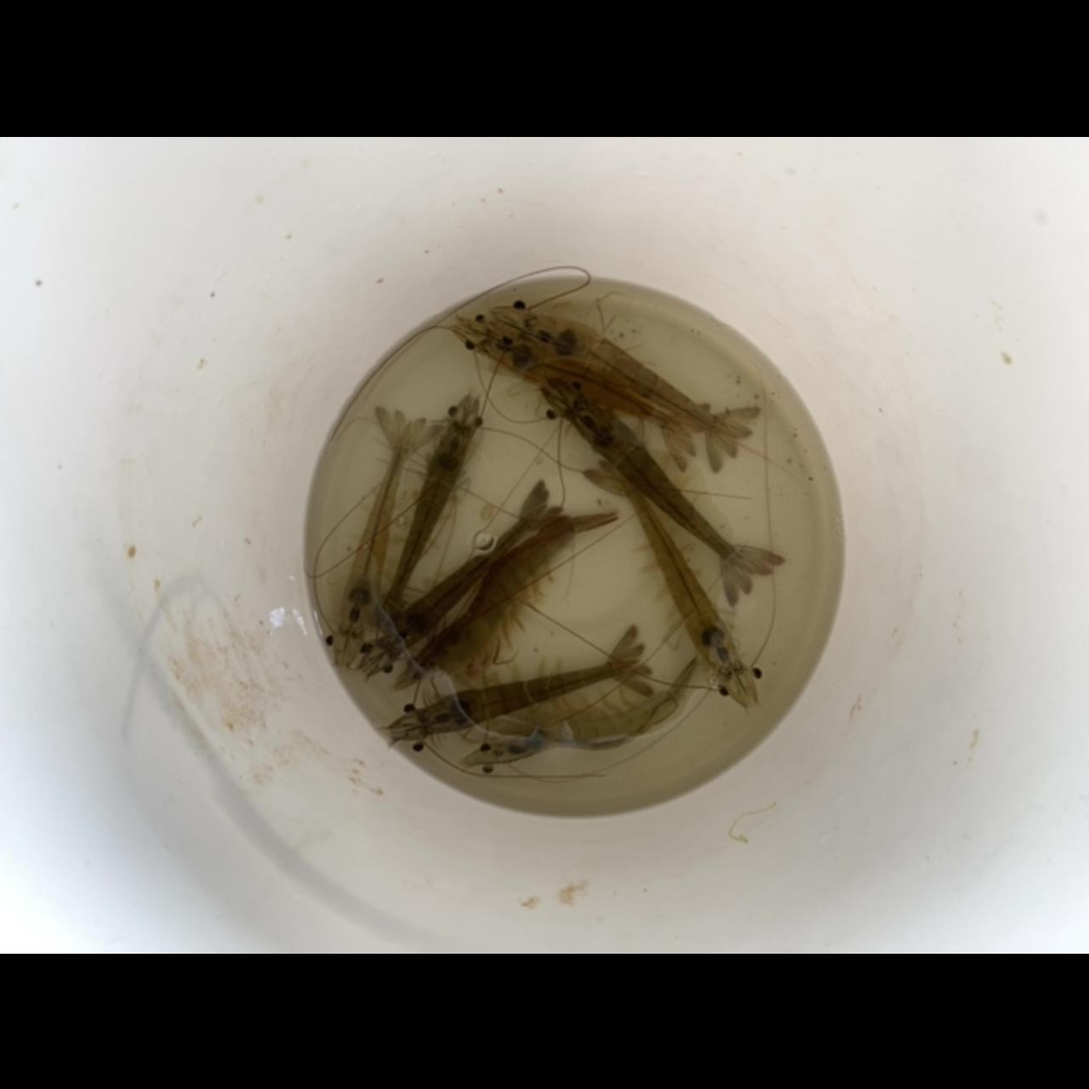round_base: (321, 292, 829, 798)
top_shrimp: (568, 398, 752, 571), (418, 513, 603, 670), (523, 315, 738, 436), (616, 458, 734, 670), (386, 503, 552, 646), (487, 332, 693, 438), (382, 422, 473, 619), (493, 681, 688, 762), (339, 421, 412, 636), (424, 660, 636, 728)
